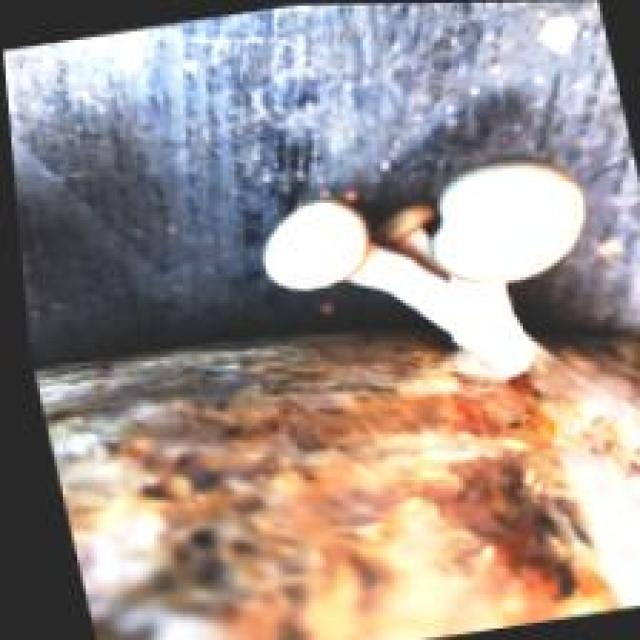field-mushroom: (263, 154, 588, 383)
